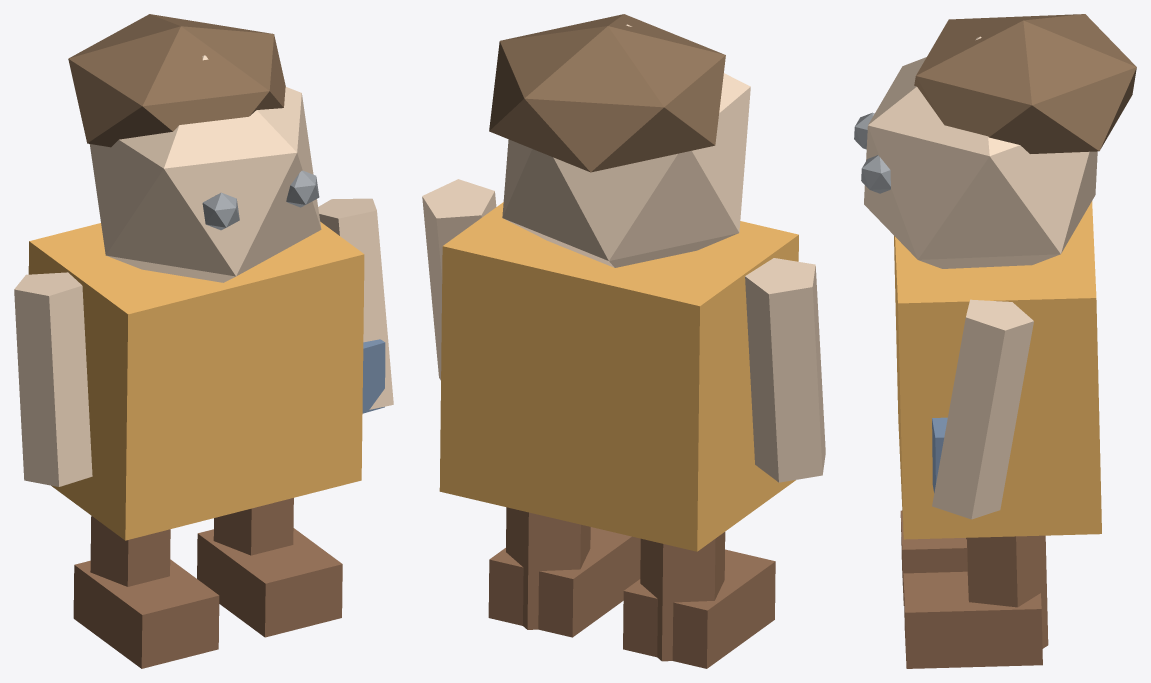
Rendered from npcpose_villager_idle_02.glb.
3 renders of one model, left to right at view 1: azimuth 30°, elevation 25°; view 2: azimuth 150°, elevation 25°; view 3: azimuth 270°, elevation 25°, orthographic. The views are drawn at different scales.
Visible parts, largest first — view 1: npcpose; view 2: npcpose; view 3: npcpose.
Boxes of the visible parts, x1,y1,x2,y2 form: npcpose: (14,14,393,668); npcpose: (422,14,825,668); npcpose: (854,14,1136,668).
Bounding box in the file's own units: 0.6986 × 1.06 × 0.4558.
